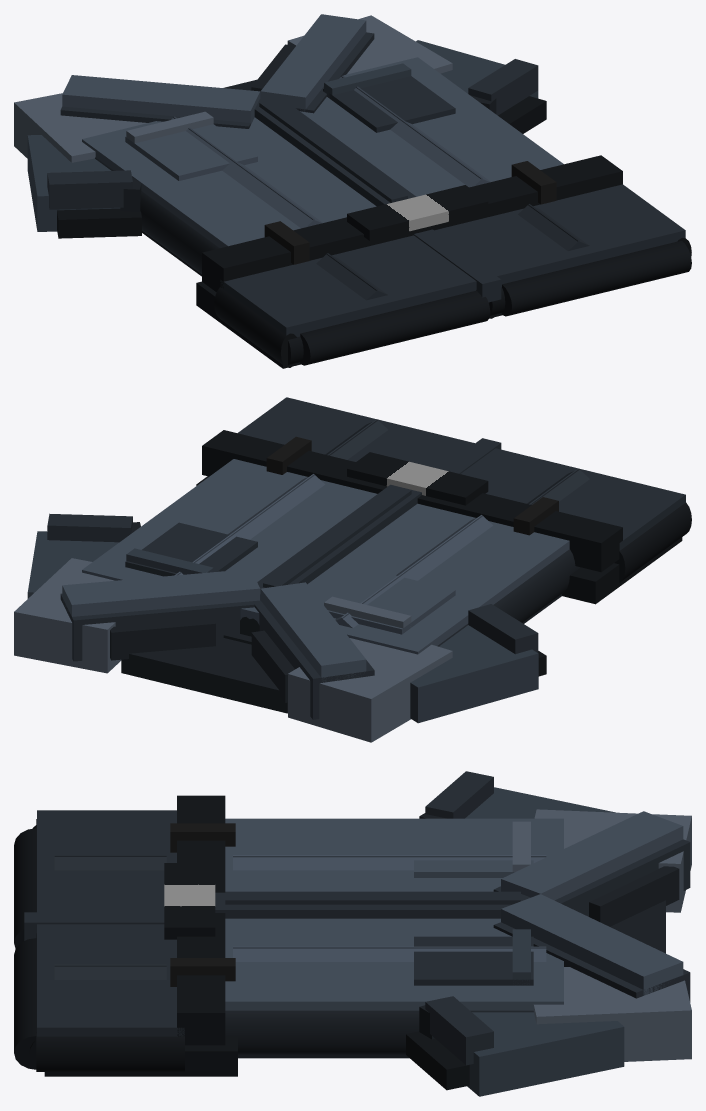
Rendered from CMU3DAU14CivilianBoilerSuitDarkBlueSynthWorldCloud.glb.
3 views of the same model, one above another, from view 1: azimuth 30°, elevation 25°; view 2: azimuth 150°, elevation 25°; view 3: azimuth 270°, elevation 25° (orthographic). The views are drawn at different scales.
Visible parts, largest first — view 1: left shirt front continuous cloth panel, left folded trouser panel continuous cloth panel, right shirt front continuous cloth panel, right folded trouser panel continuous cloth panel, continuous attached waist belt, right turned trouser hem, left turned trouser hem, left turned collar face, right turned collar face, original small waist clasp, left continuous shoulder cloth, left flat chest pocket cloth (+25 smaller); view 2: left shirt front continuous cloth panel, right shirt front continuous cloth panel, continuous attached waist belt, left continuous shoulder cloth, left folded trouser panel continuous cloth panel, left sloping sleeve cloth, right folded trouser panel continuous cloth panel, recessed inner neck facing, right turned collar face, right continuous shoulder cloth, left turned collar face, original small waist clasp (+23 smaller); view 3: right shirt front continuous cloth panel, left shirt front continuous cloth panel, right folded trouser panel continuous cloth panel, left folded trouser panel continuous cloth panel, right sloping sleeve cloth, right shirt front right turned edge, right continuous shoulder cloth, continuous attached waist belt, right turned collar face, left turned collar face, right folded trouser panel right turned edge, right flat chest pocket cloth (+28 smaller).
Part boxes in pixels (x1,y1,x2,y2): left shirt front continuous cloth panel: [82, 117, 376, 247]; left folded trouser panel continuous cloth panel: [220, 235, 476, 363]; right shirt front continuous cloth panel: [300, 57, 563, 196]; right folded trouser panel continuous cloth panel: [434, 184, 685, 314]; continuous attached waist belt: [202, 155, 622, 291]; right turned trouser hem: [501, 241, 691, 316]; left turned trouser hem: [299, 291, 490, 365]; left turned collar face: [62, 75, 260, 124]; right turned collar face: [260, 14, 366, 111]; original small waist clasp: [347, 185, 488, 240]; left continuous shoulder cloth: [14, 93, 146, 162]; left flat chest pocket cloth: [125, 124, 257, 180]; left shirt front continuous cloth panel: [250, 503, 569, 654]; right shirt front continuous cloth panel: [82, 459, 377, 619]; continuous attached waist belt: [202, 430, 622, 572]; left continuous shoulder cloth: [288, 638, 452, 742]; left folded trouser panel continuous cloth panel: [460, 448, 685, 550]; left sloping sleeve cloth: [410, 625, 538, 723]; right folded trouser panel continuous cloth panel: [237, 397, 474, 468]; recessed inner neck facing: [121, 638, 287, 713]; right turned collar face: [62, 569, 260, 616]; right continuous shoulder cloth: [14, 558, 121, 673]; left turned collar face: [260, 582, 366, 682]; original small waist clasp: [347, 452, 488, 505]; right shirt front continuous cloth panel: [225, 918, 563, 1010]; left shirt front continuous cloth panel: [225, 818, 563, 891]; right folded trouser panel continuous cloth panel: [37, 924, 184, 1036]; left folded trouser panel continuous cloth panel: [37, 810, 176, 912]; right sloping sleeve cloth: [467, 1012, 624, 1096]; right shirt front right turned edge: [225, 1010, 533, 1054]; right continuous shoulder cloth: [533, 967, 691, 1061]; continuous attached waist belt: [177, 795, 225, 1045]; right turned collar face: [501, 894, 683, 995]; left turned collar face: [501, 811, 683, 900]; right folded trouser panel right turned edge: [36, 1032, 184, 1071]; right flat chest pocket cloth: [414, 936, 533, 985].
Size of the model in its own units: 0.3961 by 0.05 by 0.4159.
Materials: 8 (1 with a texture image).
